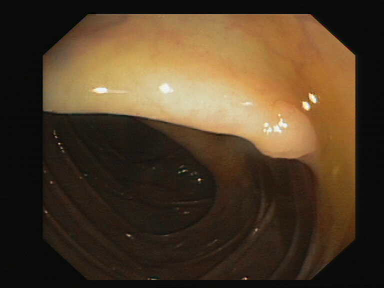polyp: (220, 74, 338, 167)
